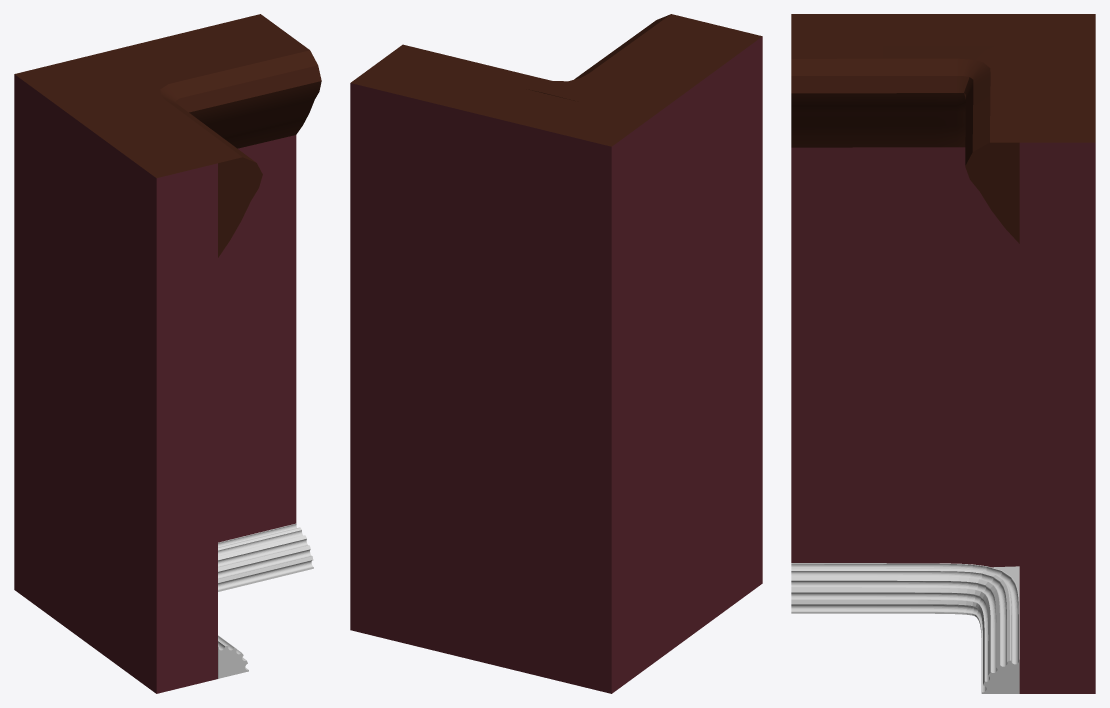
The model's file is ECKE_wand.glb.
3 views of the same model, side by side, from view 1: azimuth 30°, elevation 25°; view 2: azimuth 150°, elevation 25°; view 3: azimuth 270°, elevation 25° (orthographic). The views are drawn at different scales.
Visible parts, largest first — view 1: Ecke; view 2: Ecke; view 3: Ecke.
Boxes of the visible parts, box(x1,y1,x2,y2) form: Ecke: box(14, 14, 321, 693); Ecke: box(350, 14, 762, 693); Ecke: box(791, 14, 1095, 693).
Bounding box in the file's own units: 2 × 4 × 2.
